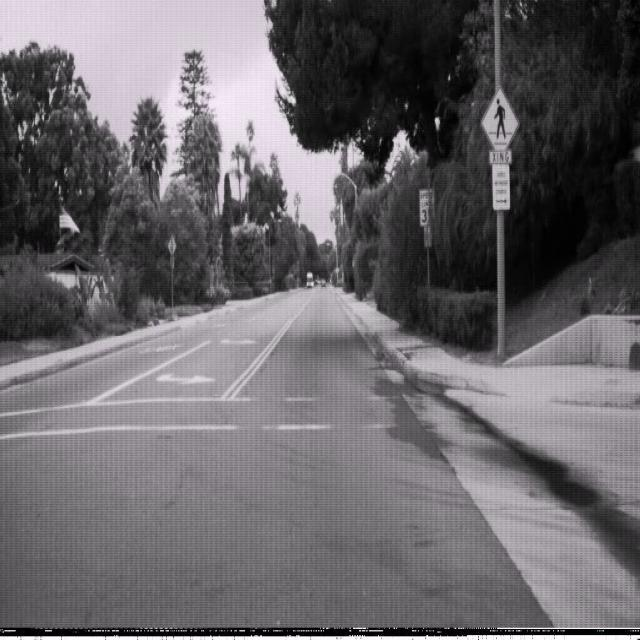pedestrianCrossing: (480, 85, 520, 163)
